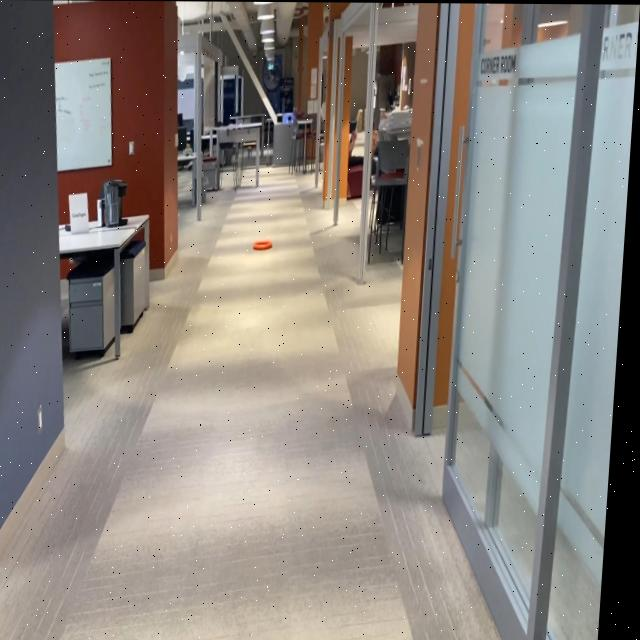note: (255, 239, 276, 251)
